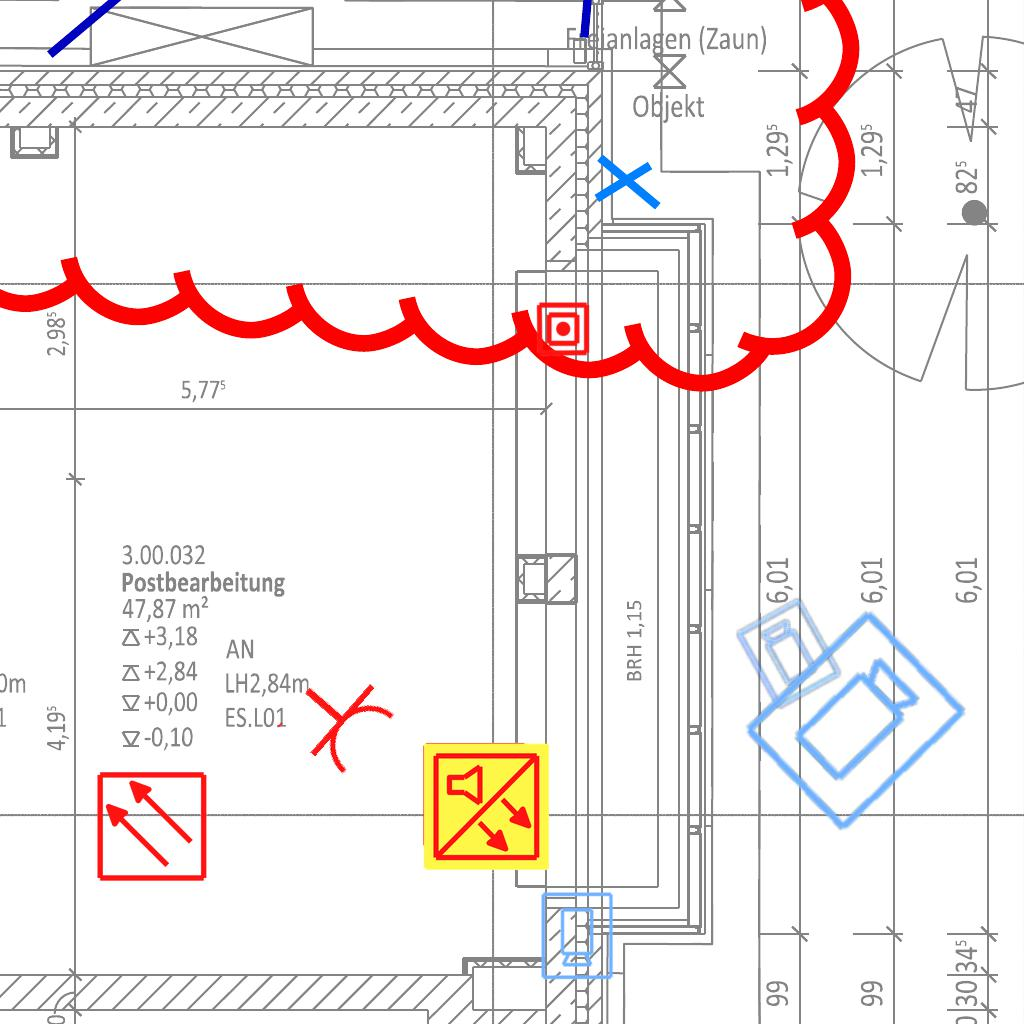KFO_Kamera_mit_Festobjektiv: (737, 603, 975, 841), (733, 595, 846, 712), (538, 890, 615, 981)
NAM-Nichtautomatischer_Melder: (535, 301, 591, 357)
OKW_Multisensormelder_(Kombination_optischer_Rauch-Kahlenmonoxid_Waerme-Melder): (420, 741, 552, 873)
RMO_Rauchmelder_optischer: (95, 770, 208, 883)
Schukosteckdose_einfach: (271, 652, 404, 786)
